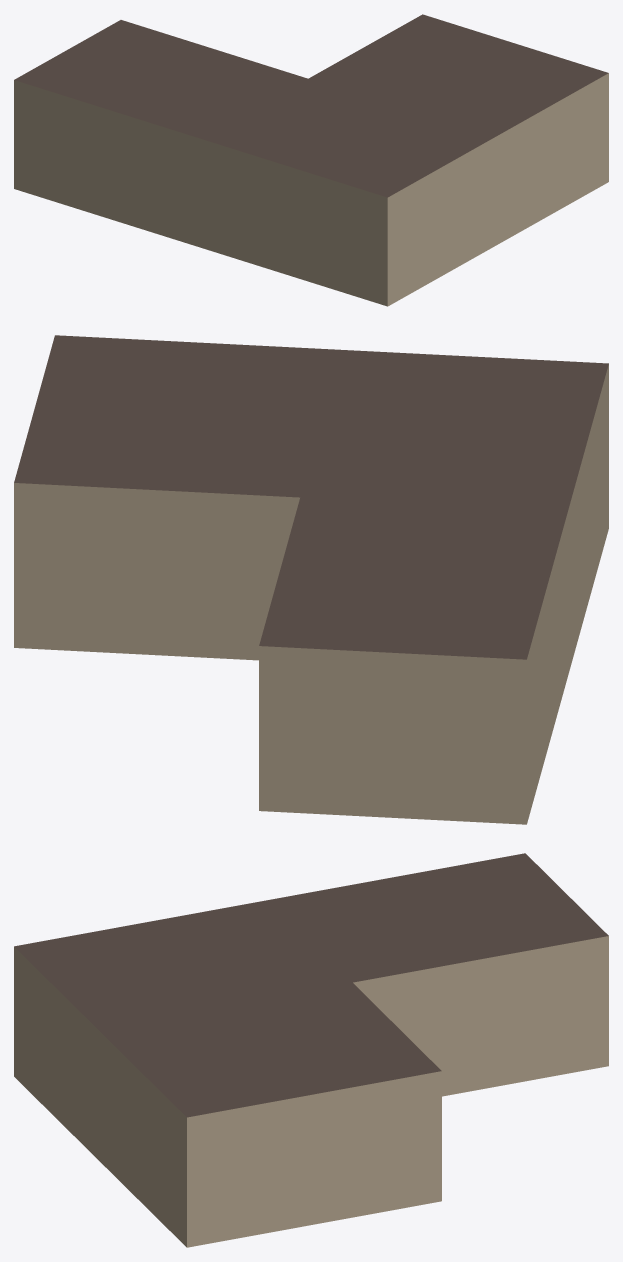
3 renders of one model, top to bottom at view 1: azimuth 30°, elevation 25°; view 2: azimuth 150°, elevation 25°; view 3: azimuth 270°, elevation 25°, orthographic. The views are drawn at different scales.
Parts seen in each view (by area): view 1: HP-w1287260666; view 2: HP-w1287260666; view 3: HP-w1287260666.
Boxes of the visible parts, box(x1,y1,x2,y2) form: HP-w1287260666: box(14, 14, 608, 306); HP-w1287260666: box(14, 335, 608, 824); HP-w1287260666: box(14, 853, 608, 1247).
Size of the model in its own units: 39.17 by 9 by 37.26.
